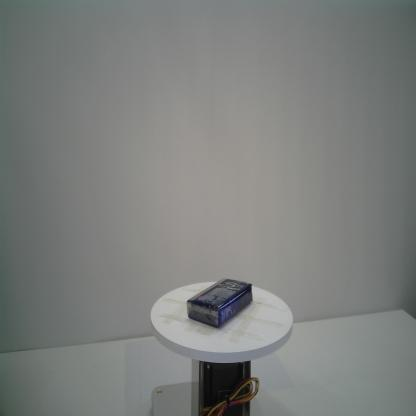Gum: (185, 277, 253, 328)
